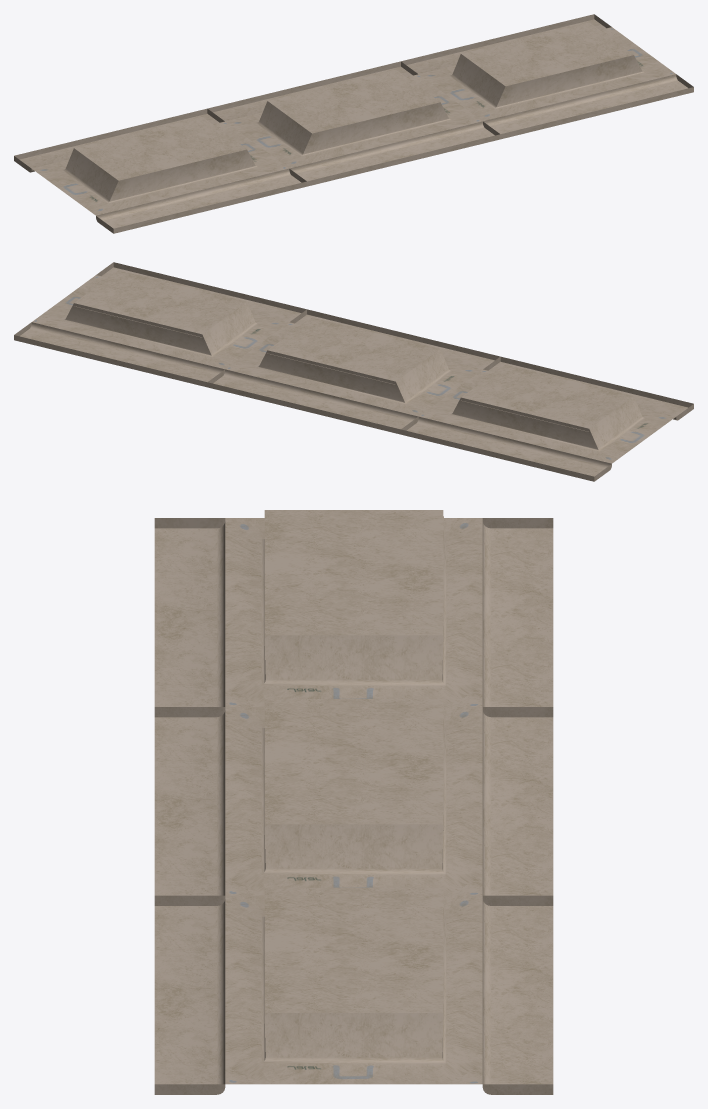
The model's file is ceiling_corridor-little.fbx.
3 views of the same model, one above another, from view 1: azimuth 30°, elevation 25°; view 2: azimuth 150°, elevation 25°; view 3: azimuth 270°, elevation 25° (orthographic). The views are drawn at different scales.
Visible parts, largest first — view 1: Techo.003; view 2: Techo.003; view 3: Techo.003.
Part boxes in pixels (x1,y1,x2,y2): Techo.003: (14, 14, 693, 233); Techo.003: (14, 262, 693, 481); Techo.003: (154, 510, 553, 1094).
Bounding box in the file's own units: 2801 × 115 × 833.
Materials: 2 (1 with a texture image).
